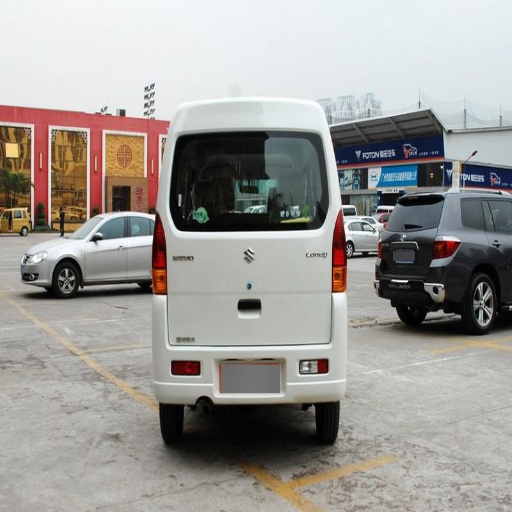back_bumper: (150, 325, 345, 402)
trunk: (155, 232, 330, 343)
